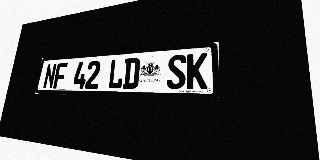2: (85, 60, 101, 89)
4: (72, 61, 88, 89)
D: (122, 57, 140, 89)
F: (53, 63, 68, 89)
K: (186, 53, 208, 89)
L: (107, 59, 125, 89)
N: (43, 63, 57, 89)
S: (166, 54, 187, 89)
